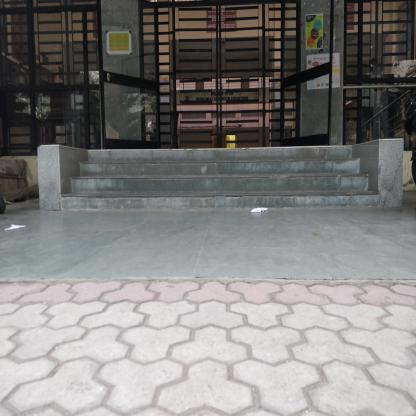stairs: (113, 153, 354, 217)
